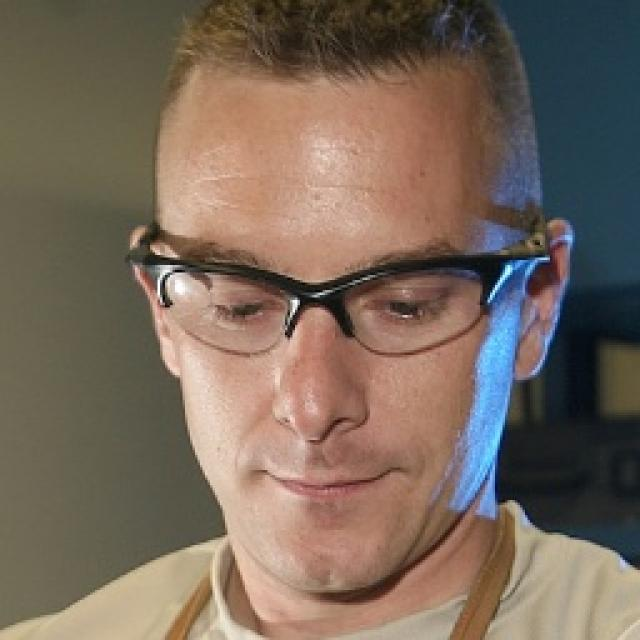glasses: (122, 218, 560, 358)
